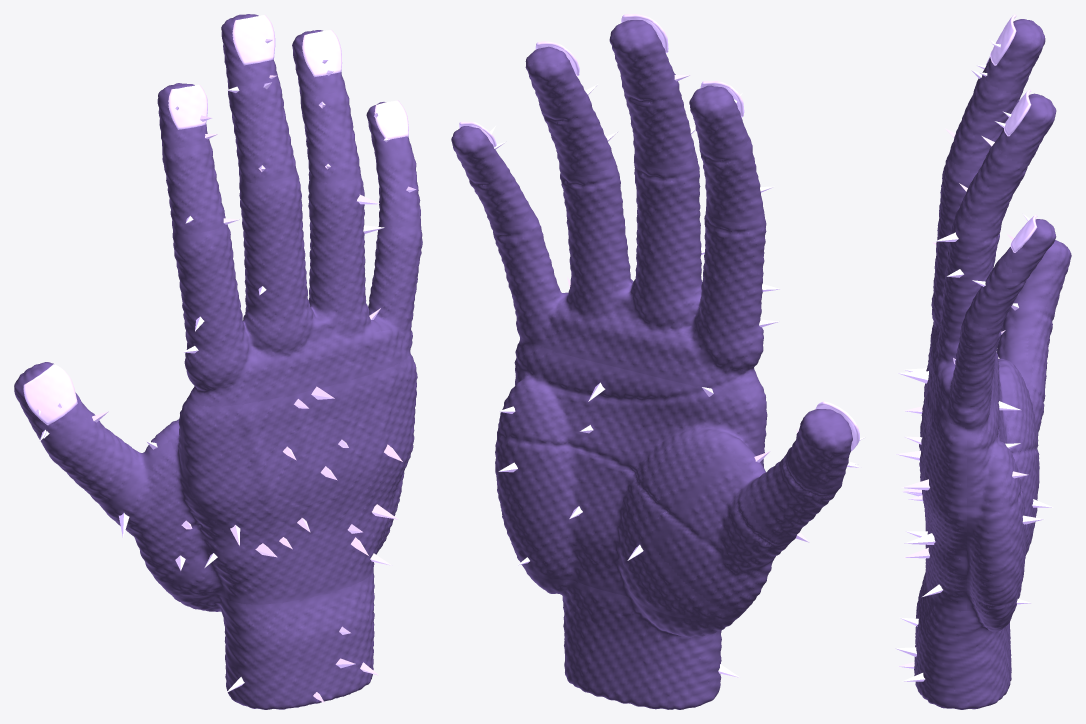
Rendered from family-14.glb.
3 renders of one model, left to right at view 1: azimuth 30°, elevation 25°; view 2: azimuth 150°, elevation 25°; view 3: azimuth 270°, elevation 25°, orthographic. The views are drawn at different scales.
Parts seen in each view (by area): view 1: knuckles__knuckles_sculpt, back_of_hand__back_of_hand_sculpt, middle_sections__middle_sections_sculpt, wrist__wrist_sculpt, fingertips__fingertips_sculpt, palm__palm_sculpt, nails__thumb_claw, nails__middle_claw, back_of_hand, nails__ring_claw, nails__index_claw, nails__pinky_claw (+1 smaller); view 2: knuckles__knuckles_sculpt, palm__palm_sculpt, middle_sections__middle_sections_sculpt, wrist__wrist_sculpt, fingertips__fingertips_sculpt, palm; view 3: palm__palm_sculpt, knuckles__knuckles_sculpt, middle_sections__middle_sections_sculpt, wrist__wrist_sculpt, fingertips__fingertips_sculpt, back_of_hand__back_of_hand_sculpt, back_of_hand, nails__middle_claw, palm, nails__ring_claw, nails__pinky_claw, wrist.
Boxes of the visible parts, x1,y1,x2,y2 form: knuckles__knuckles_sculpt: (100,171,422,587); back_of_hand__back_of_hand_sculpt: (182,352,417,605); middle_sections__middle_sections_sculpt: (42,77,420,506); wrist__wrist_sculpt: (172,552,377,709); fingertips__fingertips_sculpt: (14,14,412,446); palm__palm_sculpt: (162,397,404,598); nails__thumb_claw: (23,364,77,425); nails__middle_claw: (232,15,275,65); back_of_hand: (230,386,402,565); nails__ring_claw: (302,29,342,77); nails__index_claw: (168,84,207,129); nails__pinky_claw: (374,100,408,139); knuckles__knuckles_sculpt: (490,152,796,613); palm__palm_sculpt: (495,336,763,622); middle_sections__middle_sections_sculpt: (466,73,842,539); wrist__wrist_sculpt: (525,570,734,709); fingertips__fingertips_sculpt: (451,20,852,489); palm: (498,382,713,565); palm__palm_sculpt: (965,352,1037,622); knuckles__knuckles_sculpt: (928,154,1045,494); middle_sections__middle_sections_sculpt: (949,70,1054,388); wrist__wrist_sculpt: (914,572,1012,709); fingertips__fingertips_sculpt: (983,19,1071,311); back_of_hand__back_of_hand_sculpt: (919,360,967,611); back_of_hand: (895,368,942,596); nails__middle_claw: (990,14,1016,65); palm: (998,330,1053,604); nails__ring_claw: (1004,89,1031,136); nails__pinky_claw: (1010,215,1037,252); wrist: (895,617,925,681).
Bounding box in the file's own units: 0.1314 × 0.2173 × 0.0539.
2 materials, 1 textured.
